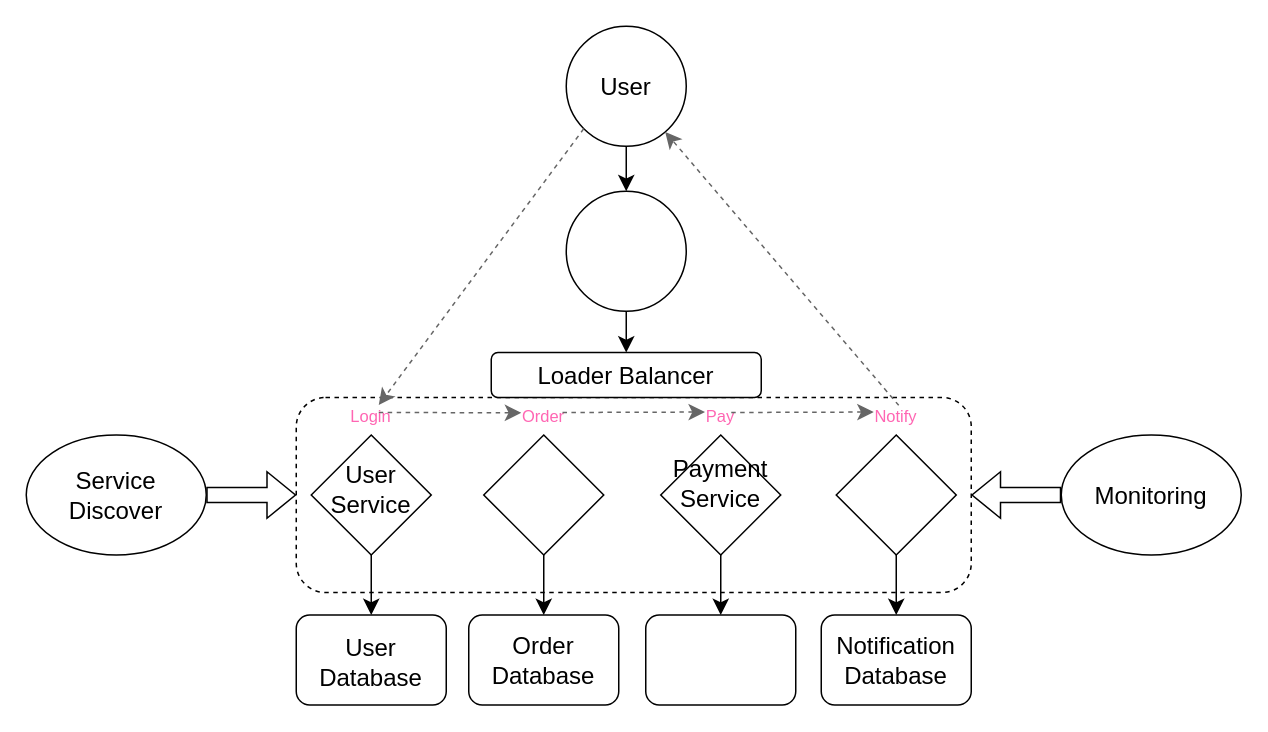
The diagram is 1268 pixels wide and 732 high, and some of its shapes have lost their labels. Here are the shapes that lost their labels. From the top down, the centre of each, then its label:
At (625,250): "API Gateway".
At (543,494): "Order Service".
At (895,494): "Notification Service".
At (720,659): "Payment Database".
